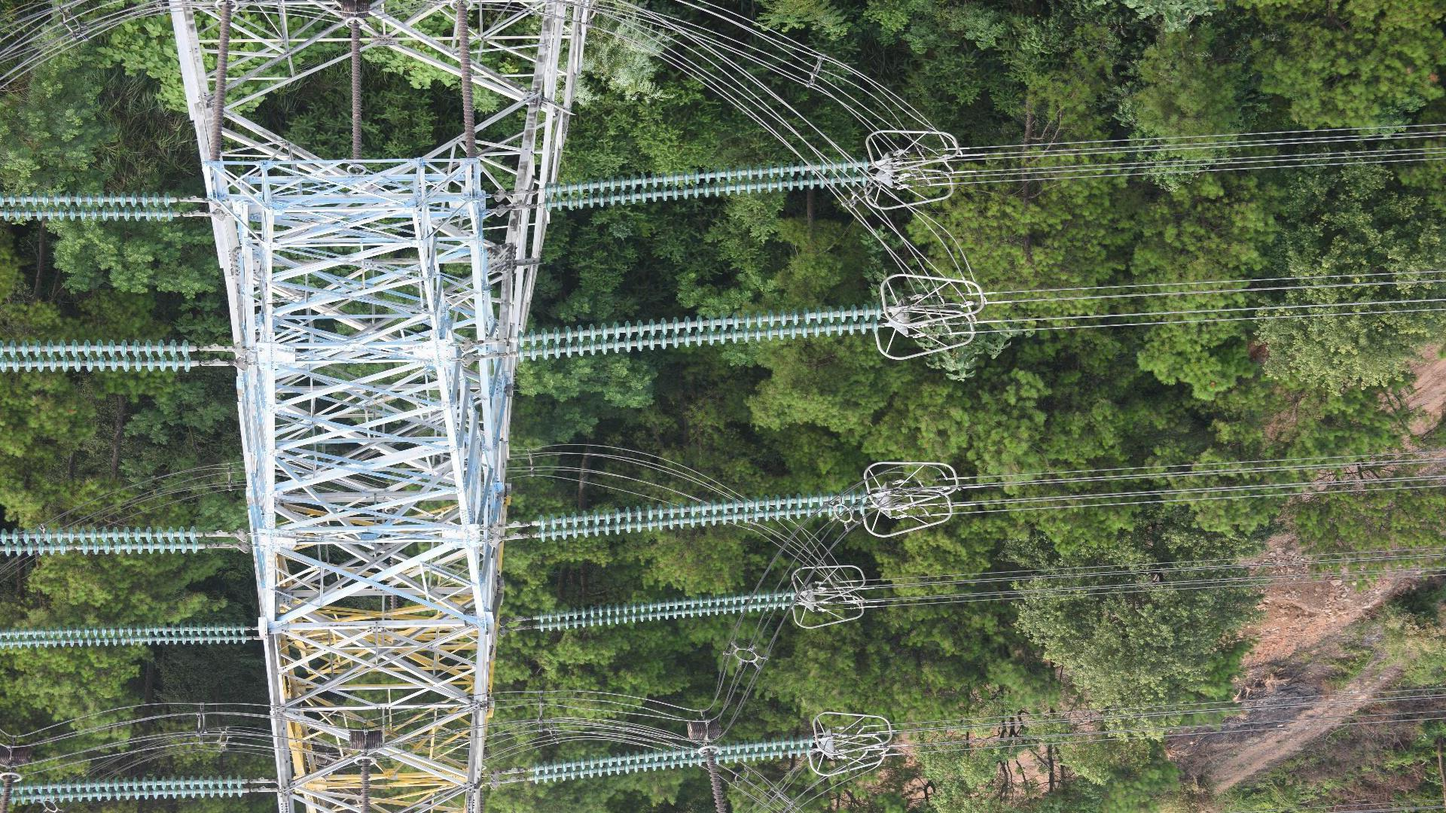insulator: (514, 298, 883, 366), (541, 154, 873, 216), (535, 484, 871, 545), (529, 732, 817, 787), (535, 583, 798, 635), (1, 619, 251, 653), (7, 772, 247, 807), (1, 522, 204, 560), (1, 337, 195, 376), (1, 190, 176, 225), (206, 2, 236, 162), (453, 2, 480, 160), (348, 20, 365, 162), (704, 749, 729, 813), (358, 757, 374, 813), (1, 772, 16, 813)
insulator_stringdrop: (57, 537, 90, 558)
